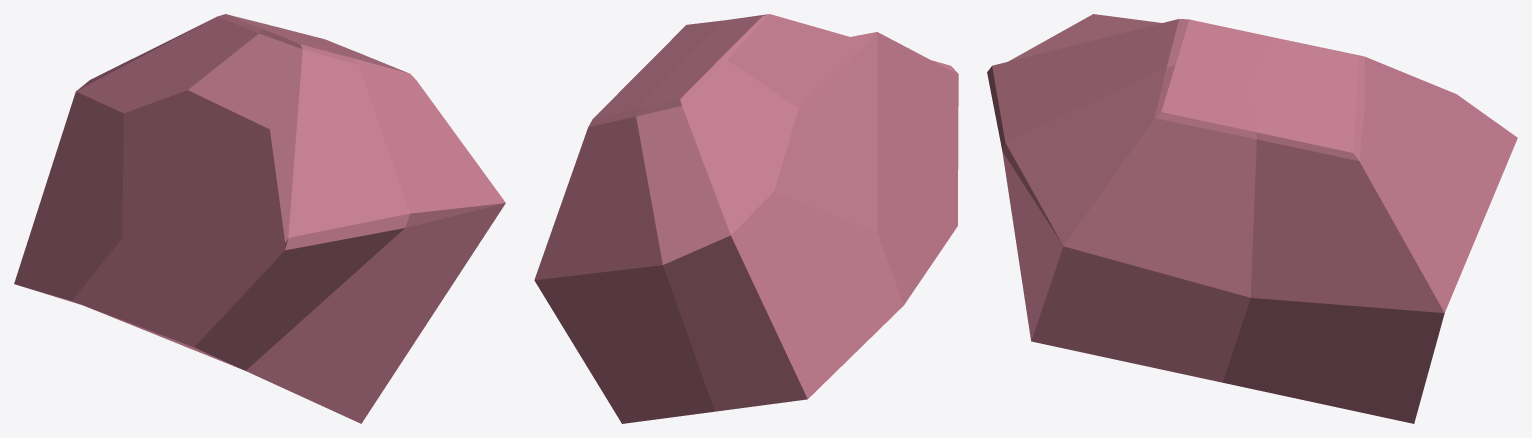
The model's file is Small Rock.fbx.
3 renders of one model, left to right at view 1: azimuth 30°, elevation 25°; view 2: azimuth 150°, elevation 25°; view 3: azimuth 270°, elevation 25°, orthographic. The views are drawn at different scales.
Visible parts, largest first — view 1: Small Rock; view 2: Small Rock; view 3: Small Rock.
Part boxes in pixels (x1=…): Small Rock: x1=14, y1=14, x2=505, y2=423; Small Rock: x1=534, y1=14, x2=958, y2=423; Small Rock: x1=987, y1=14, x2=1517, y2=423.
Bounding box in the file's own units: 29.14 × 30.85 × 38.76.
